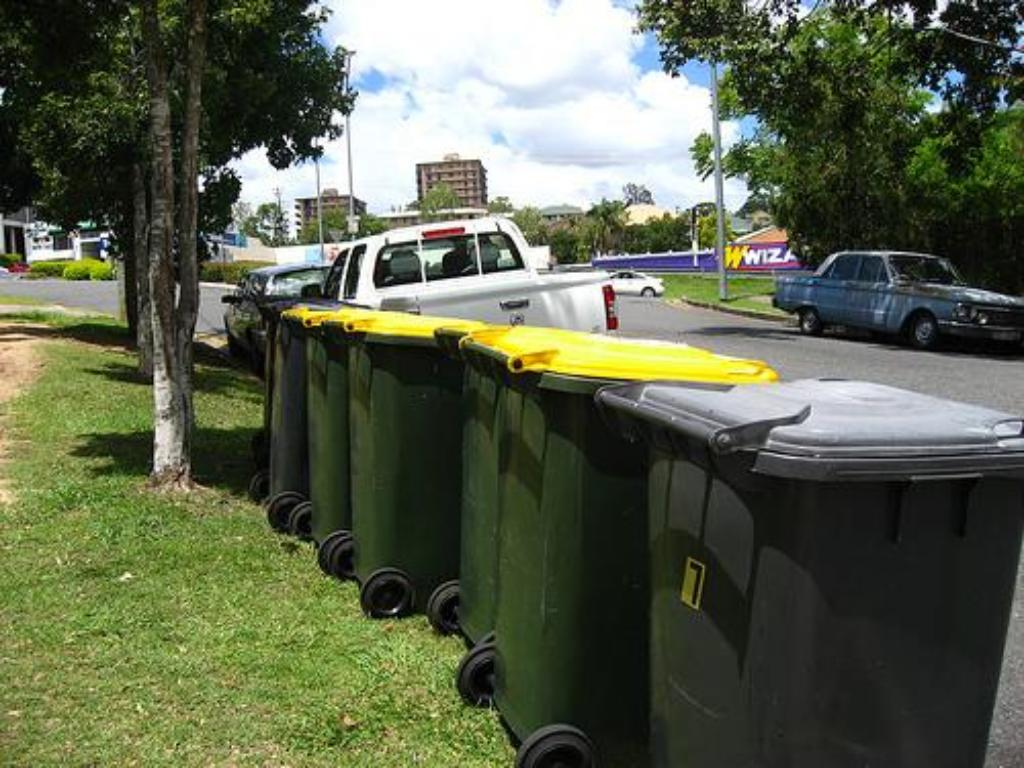dustbin: (607, 377, 1024, 768), (455, 315, 780, 768), (262, 301, 508, 596)
